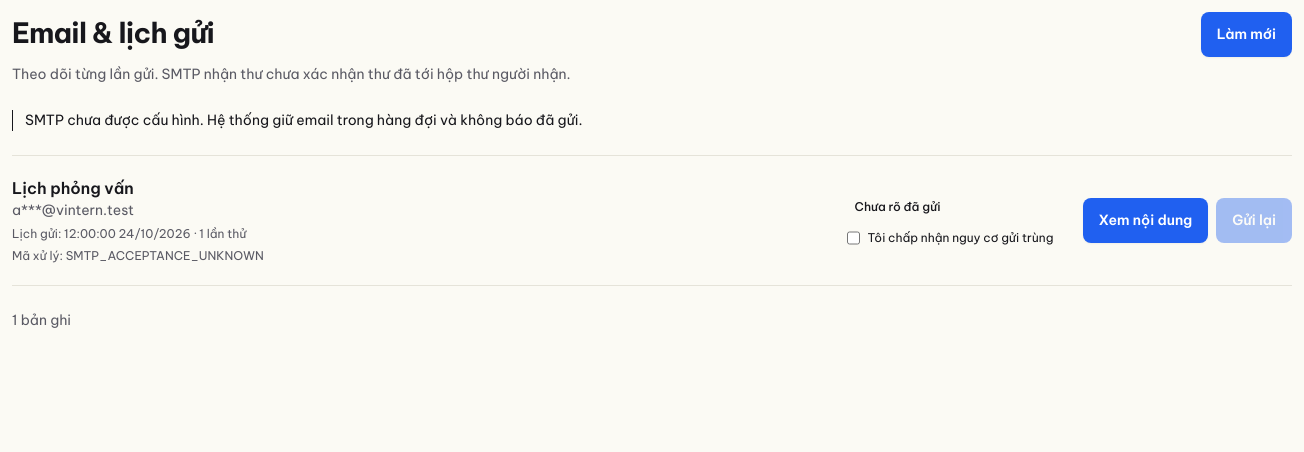
Test: renders sensitive preview as redacted text without injecting server HTML
Expected: the text "a***@vintern.test" is shown, [12, 201, 134, 219]
Click the button "Xem nội dung": (1145, 220) [1083, 198, 1208, 243]
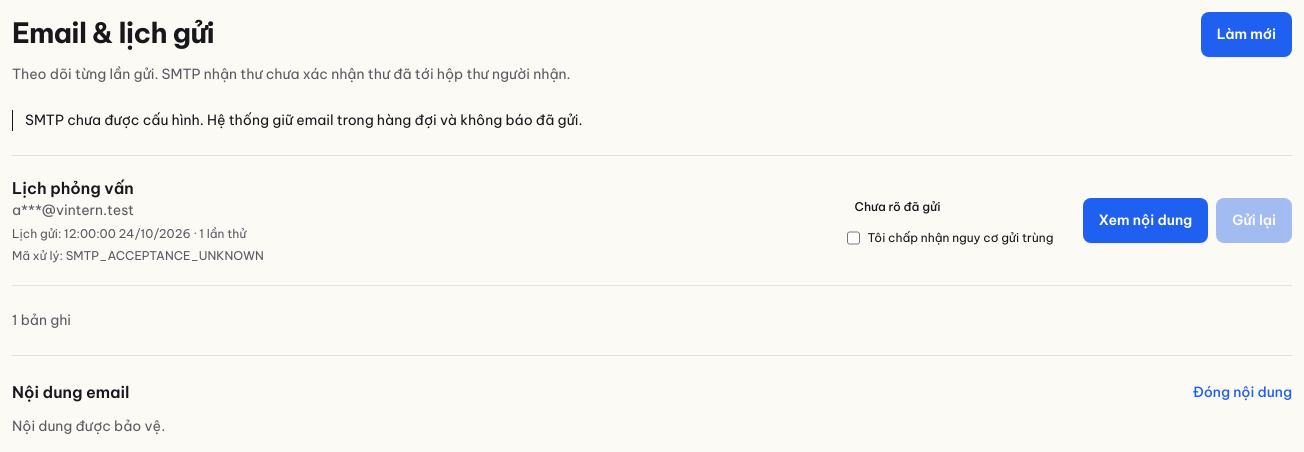
Result: the text "Nội dung được bảo vệ." is shown at [12, 417, 165, 435]
